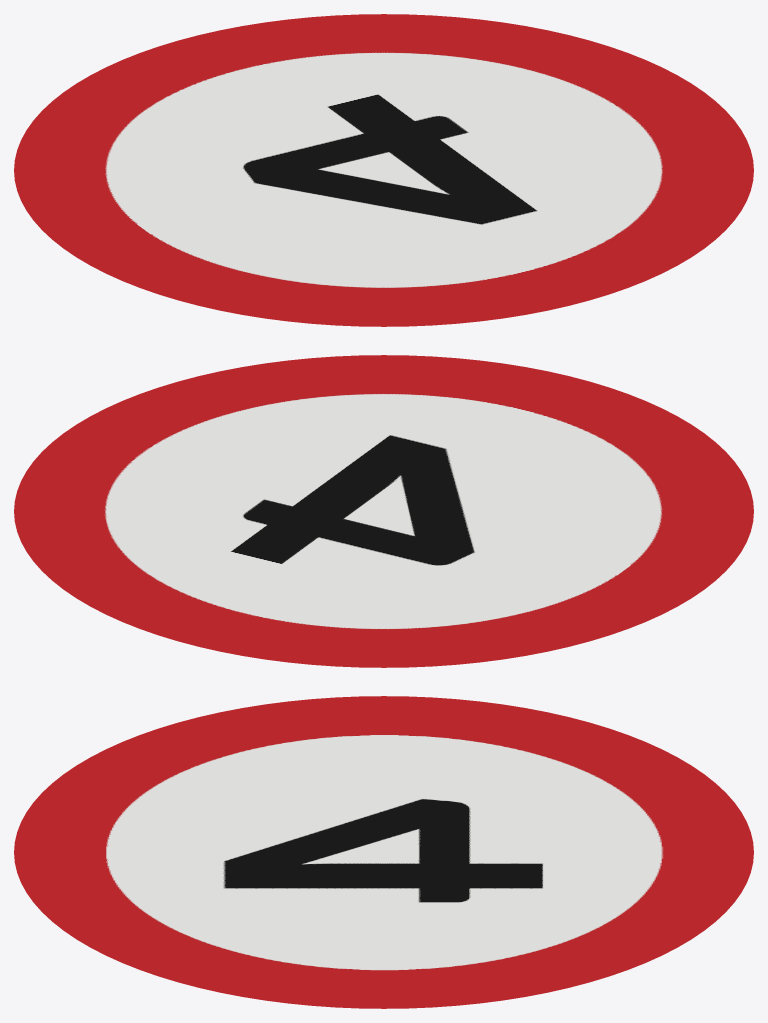
The model's file is stage_04.obj.
3 renders of one model, top to bottom at view 1: azimuth 30°, elevation 25°; view 2: azimuth 150°, elevation 25°; view 3: azimuth 270°, elevation 25°, orthographic.
Parts seen in each view (by area): view 1: stage_04; view 2: stage_04; view 3: stage_04.
Part boxes in pixels (<box>): stage_04: <box>14,14,753,326</box>; stage_04: <box>14,355,753,667</box>; stage_04: <box>14,696,753,1008</box>.
Size of the model in its own units: 0.6 by 0 by 0.6.
Materials: 1 (1 with a texture image).
